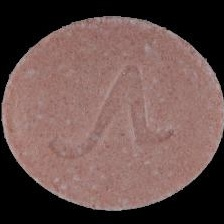53808-0943: (0, 0, 224, 224)
